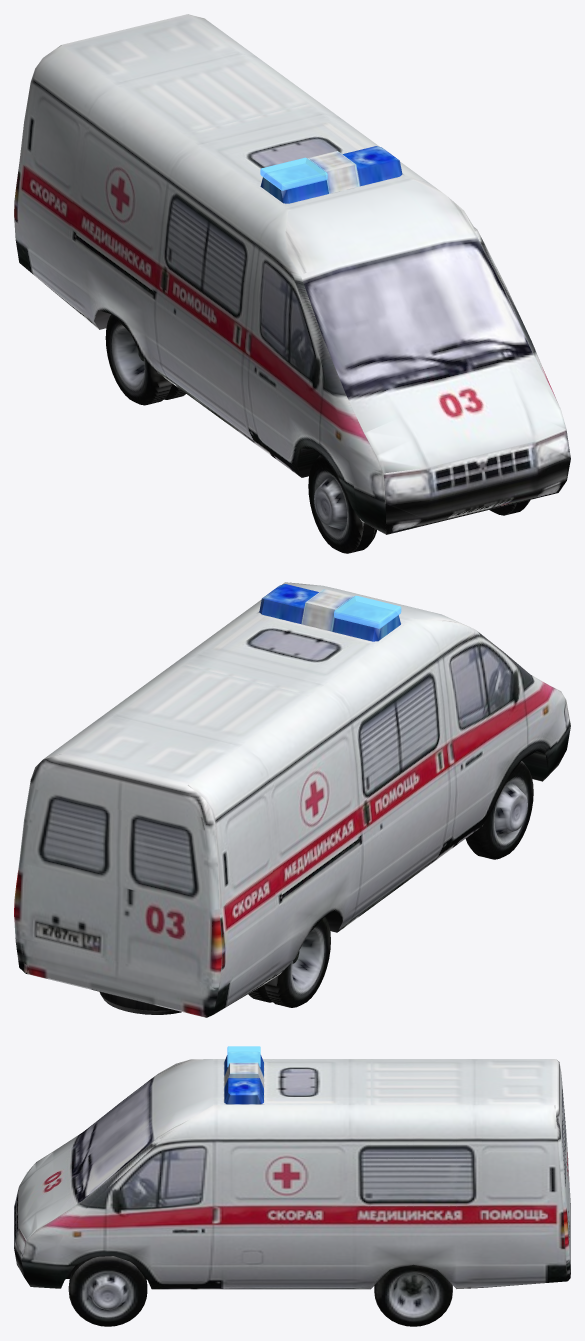
File: amb-gaz.glb
3 renders of one model, top to bottom at view 1: azimuth 30°, elevation 25°; view 2: azimuth 150°, elevation 25°; view 3: azimuth 270°, elevation 25°, orthographic. The views are drawn at different scales.
Visible parts, largest first — view 1: object 5, object 9, object 8, lamp_head_R, siren_L, lamp_head_L; view 2: object 5, object 9, object 8, siren_L, object 7, lamp_tail_R; view 3: object 5, object 6, object 10, siren_L.
Boxes of the visible parts, x1,y1,x2,y2 form: object 5: [14, 14, 570, 534]; object 9: [308, 455, 376, 553]; object 8: [105, 314, 185, 405]; lamp_head_R: [383, 454, 435, 493]; siren_L: [260, 157, 327, 190]; lamp_head_L: [522, 418, 566, 463]; object 5: [14, 582, 570, 1017]; object 9: [465, 761, 533, 859]; object 8: [248, 917, 330, 1007]; siren_L: [334, 595, 401, 628]; object 7: [99, 992, 181, 1014]; lamp_tail_R: [202, 923, 221, 962]; object 5: [14, 1052, 570, 1289]; object 6: [68, 1256, 147, 1326]; object 10: [374, 1264, 452, 1326]; siren_L: [227, 1046, 260, 1067].
Bounding box in the file's own units: 0.3306 × 0.4515 × 1.
2 materials, 1 textured.
